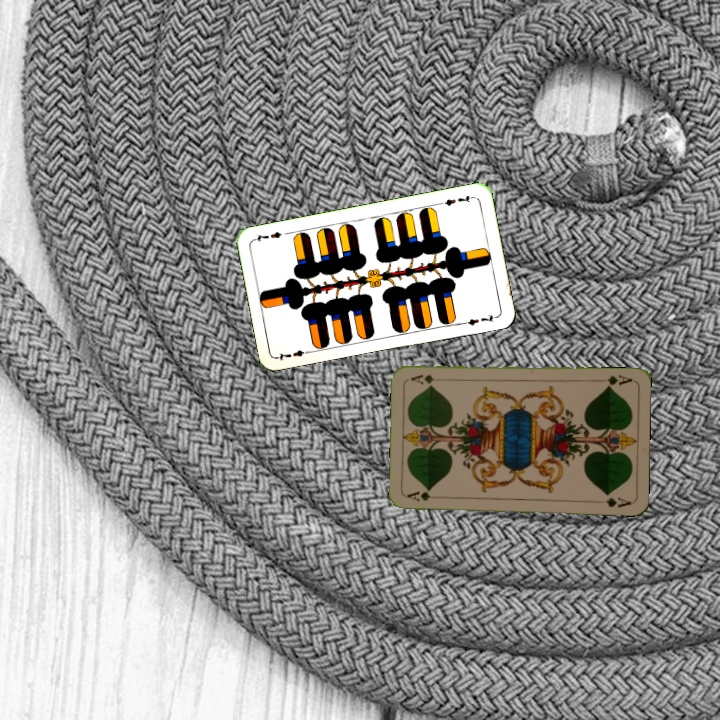E7: (436, 191, 476, 208), (274, 346, 314, 363)
GA: (594, 371, 635, 390), (403, 488, 433, 504)
